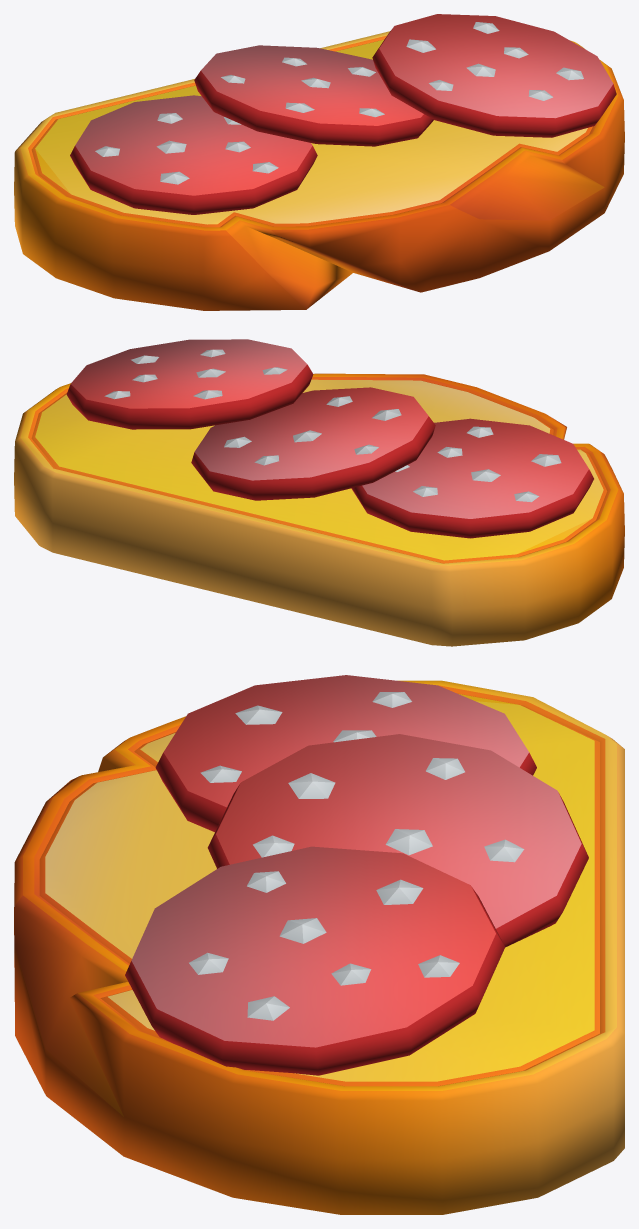
File: sandwich_007.fbx
The picture shows the model from 3 angles, top to bottom: view 1: azimuth 30°, elevation 25°; view 2: azimuth 150°, elevation 25°; view 3: azimuth 270°, elevation 25°; orthographic projection. The views are drawn at different scales.
Parts seen in each view (by area): view 1: sandwich_007; view 2: sandwich_007; view 3: sandwich_007.
Part boxes in pixels (x1=…): sandwich_007: x1=14, y1=14, x2=624, y2=310; sandwich_007: x1=14, y1=339, x2=624, y2=646; sandwich_007: x1=14, y1=675, x2=624, y2=1214.
Bounding box in the file's own units: 14.33 × 8.83 × 3.22.
